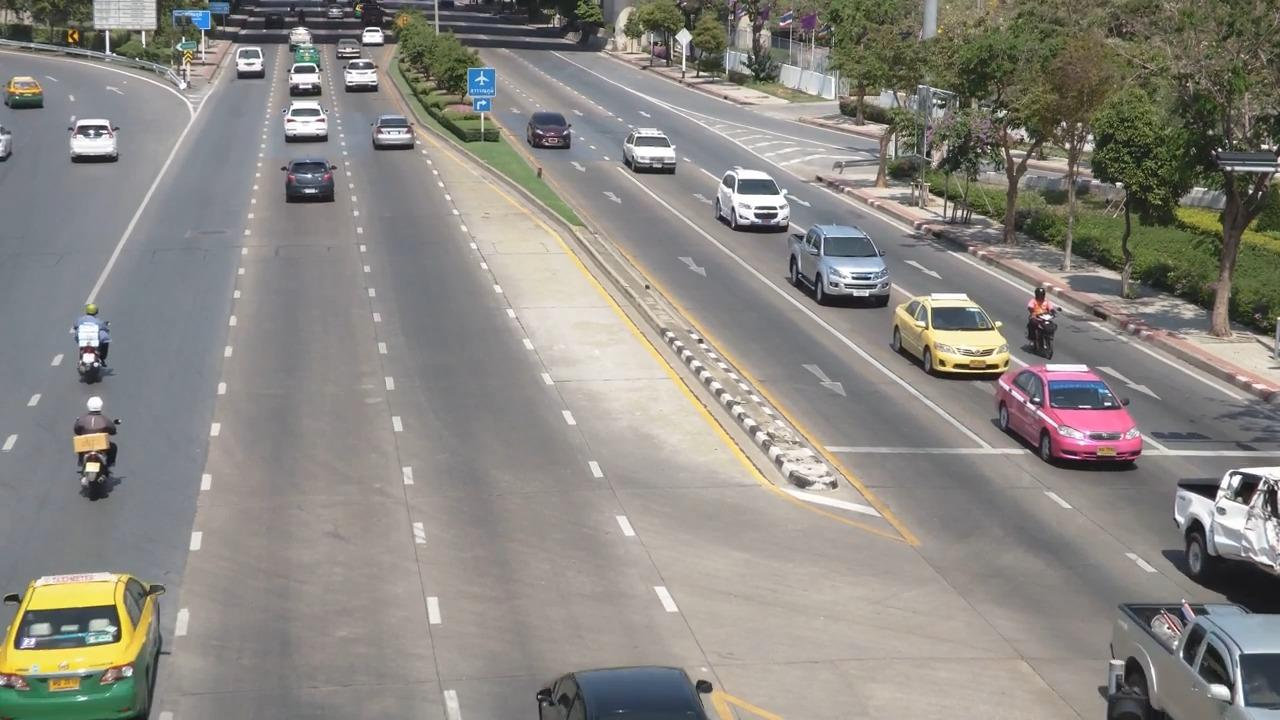CAR: (0, 550, 179, 720), (1092, 579, 1280, 720), (994, 356, 1145, 474), (893, 288, 1020, 383), (787, 214, 898, 310), (709, 162, 800, 237), (63, 107, 135, 169), (618, 120, 684, 181), (275, 155, 344, 213), (362, 110, 429, 164), (521, 101, 581, 159), (3, 64, 59, 123), (281, 97, 347, 144), (342, 63, 398, 111), (225, 35, 275, 87), (282, 72, 332, 116), (343, 59, 387, 95), (337, 41, 371, 70), (355, 21, 389, 50), (286, 24, 316, 53), (289, 50, 323, 75)
MOTOR: (58, 391, 127, 502), (64, 291, 122, 396), (1024, 285, 1062, 354)
